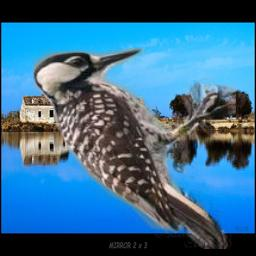Woodpecker: (32, 48, 236, 249)
